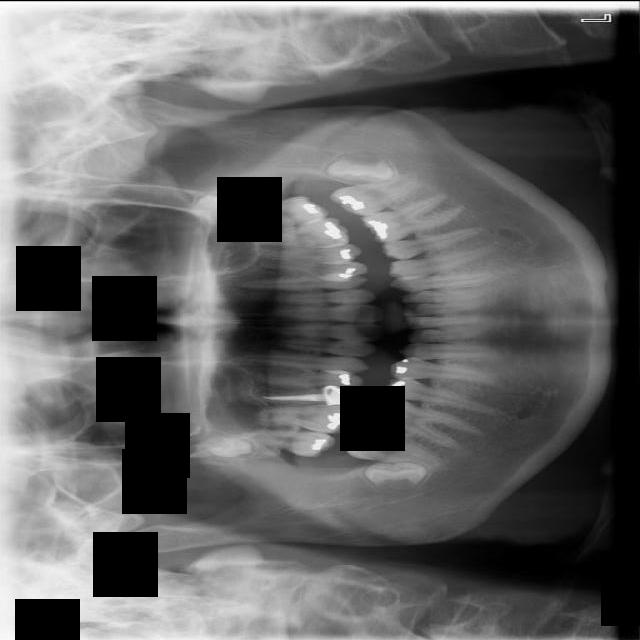3M ESPE Implant: (202, 436, 253, 458)
52: (366, 390, 419, 436), (279, 186, 330, 233), (344, 423, 401, 464), (306, 395, 355, 442), (359, 206, 412, 246), (329, 185, 388, 215), (303, 214, 350, 250), (290, 428, 335, 459), (317, 368, 364, 391), (316, 242, 362, 265), (320, 260, 368, 282), (319, 385, 360, 407), (390, 355, 426, 379), (385, 376, 420, 400)
73: (251, 383, 324, 405), (596, 20, 612, 30)
BioHorizons Implant: (228, 193, 331, 230)
BioLife Implant: (194, 193, 257, 229)
Biomet 3i Implant: (327, 152, 394, 184)
Blue Sky Bio Implant: (327, 169, 430, 223)
Caries: (229, 427, 337, 457)
Implant: (346, 422, 449, 473)
Keystone Dental Implant: (361, 460, 429, 494)
